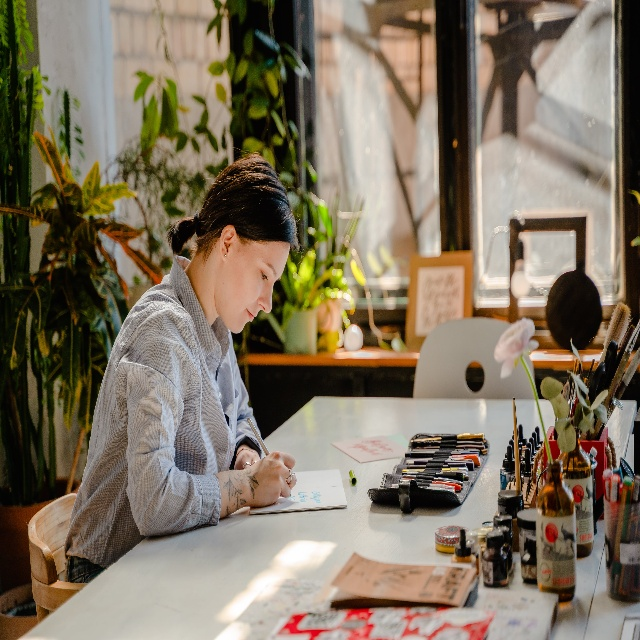Sin_guantes: (252, 454, 297, 509), (233, 447, 262, 466)
